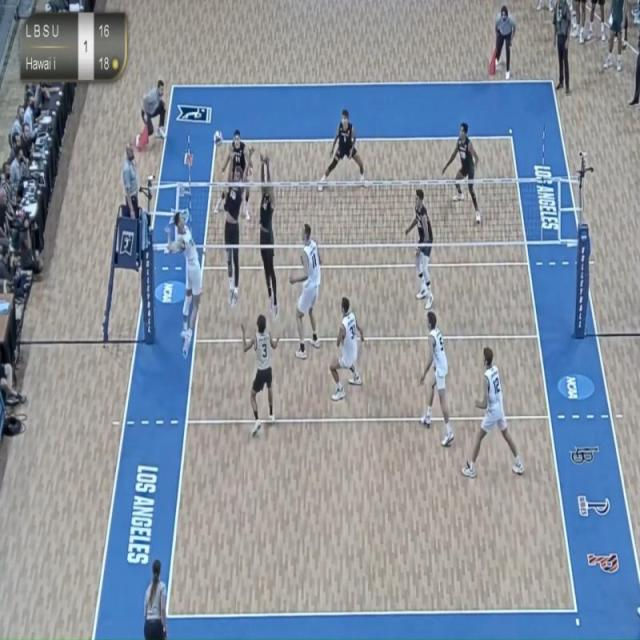volleyball: (210, 127, 226, 154)
